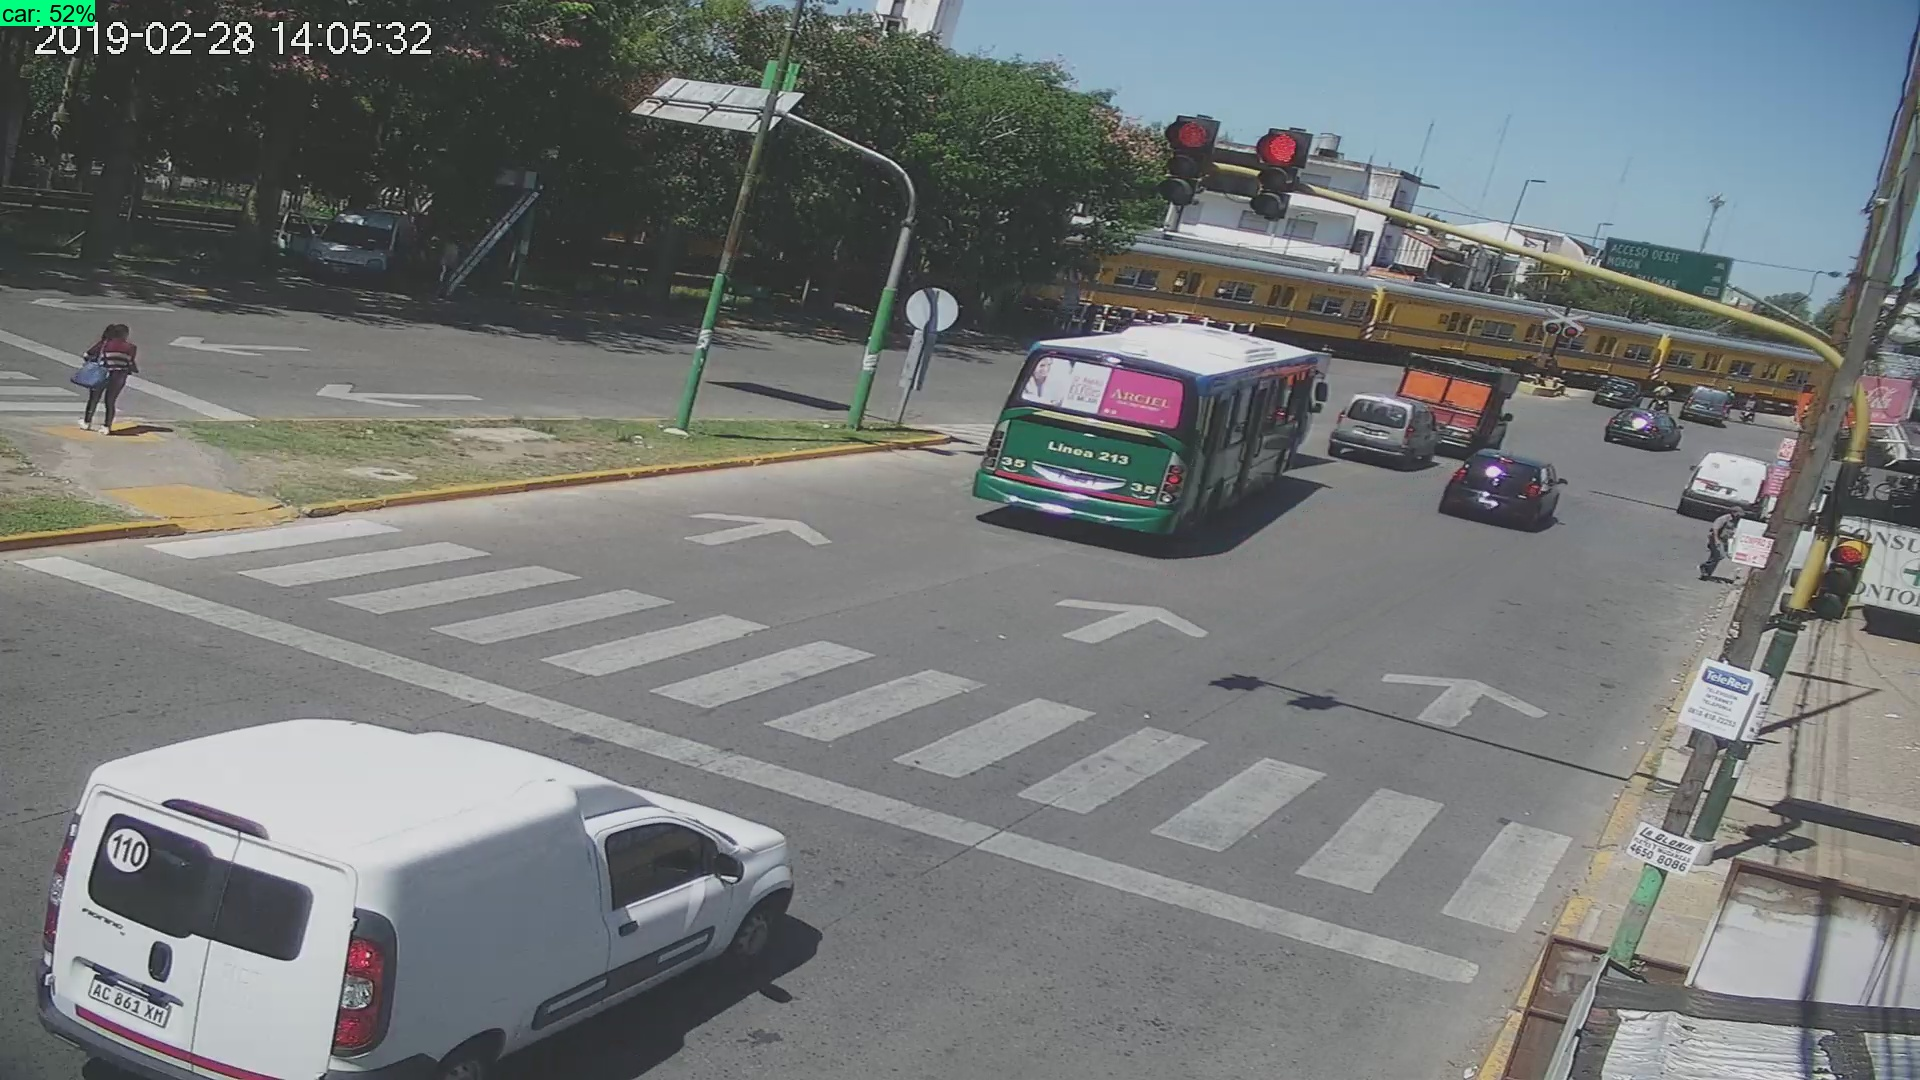bus: (965, 328, 1341, 559)
car: (29, 702, 825, 1080), (1435, 444, 1571, 545), (1329, 384, 1449, 480), (1684, 439, 1774, 522), (1604, 398, 1687, 454)
